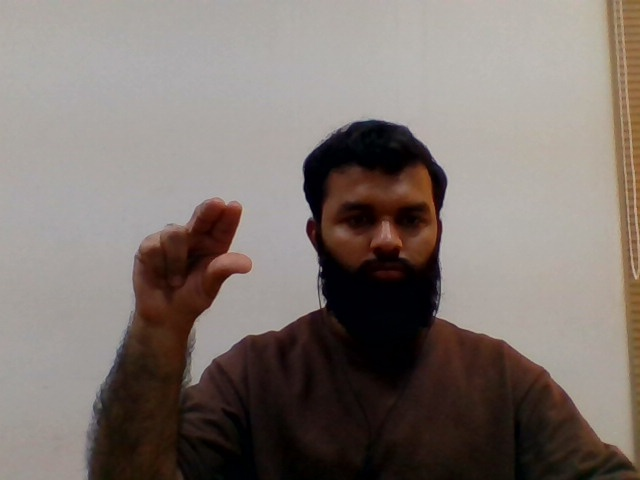No: (118, 194, 271, 332)
